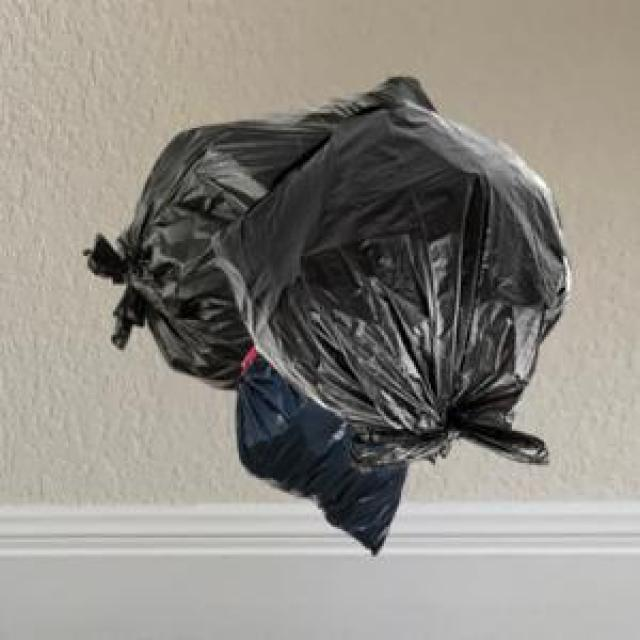waste: (86, 78, 569, 553)
